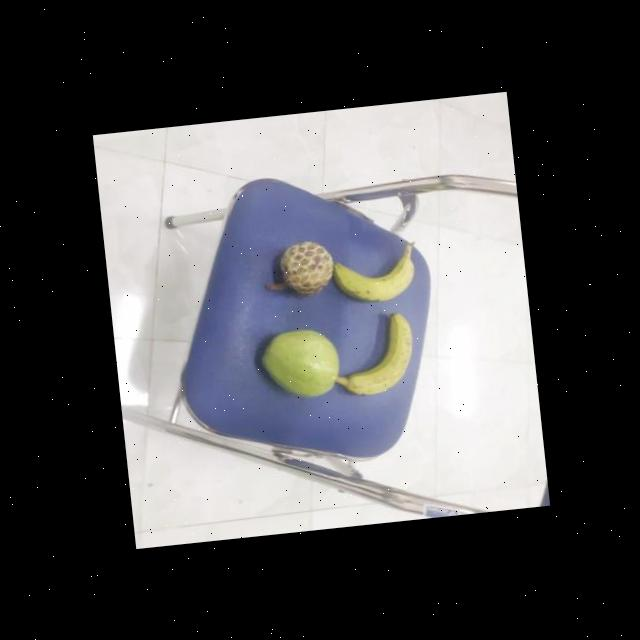Sakya fruit: (274, 237, 337, 300)
banana: (336, 312, 418, 401), (331, 244, 417, 310)
